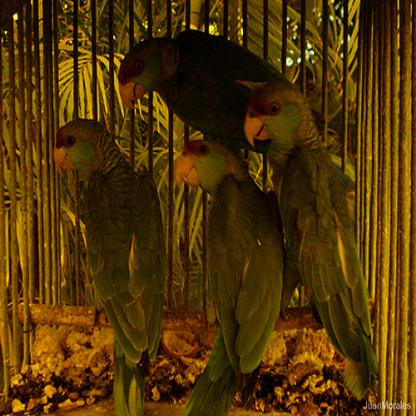bird: (242, 76, 382, 400), (52, 117, 166, 415), (168, 139, 286, 415), (119, 28, 302, 145)
